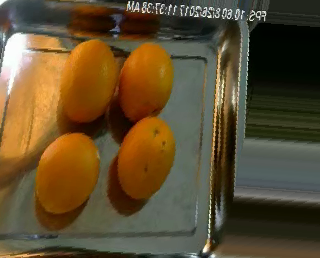Orange: (35, 133, 101, 215), (116, 116, 177, 198), (60, 38, 118, 123), (118, 40, 174, 121)
